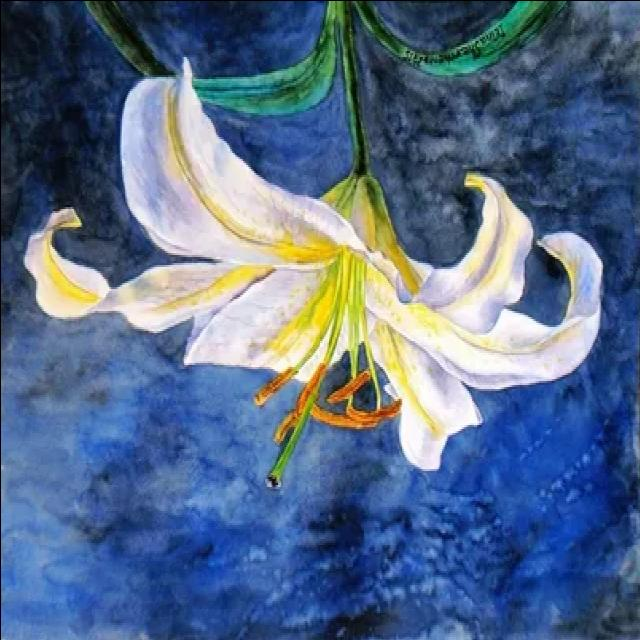lily: (19, 50, 614, 472)
